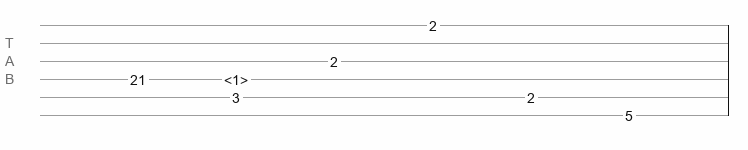2: (330, 54, 338, 64), (429, 18, 437, 28), (527, 90, 535, 100)
21: (130, 72, 146, 82)
3: (232, 90, 240, 100)
5: (625, 108, 633, 118)
harmonic: (224, 72, 248, 82)
